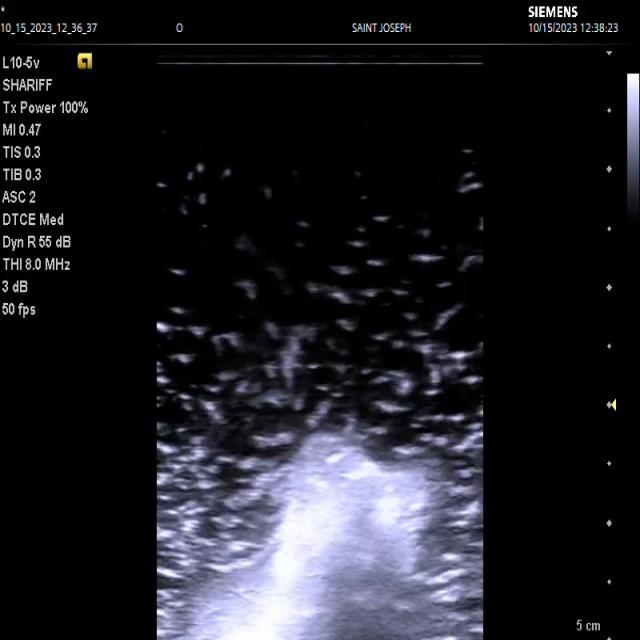tissue: (179, 434, 469, 640)
